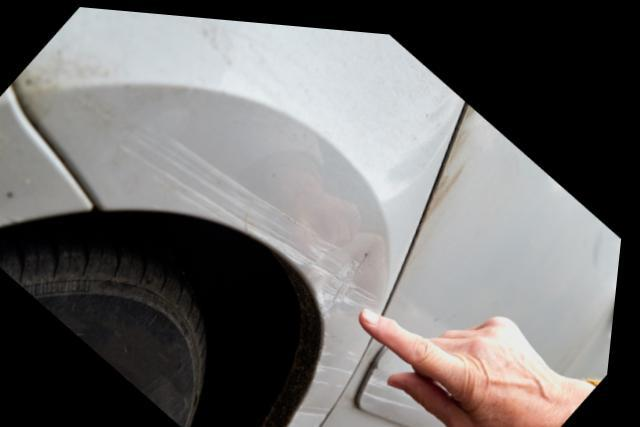dent: (319, 226, 392, 305)
scratch: (119, 118, 343, 264), (294, 321, 368, 427)
